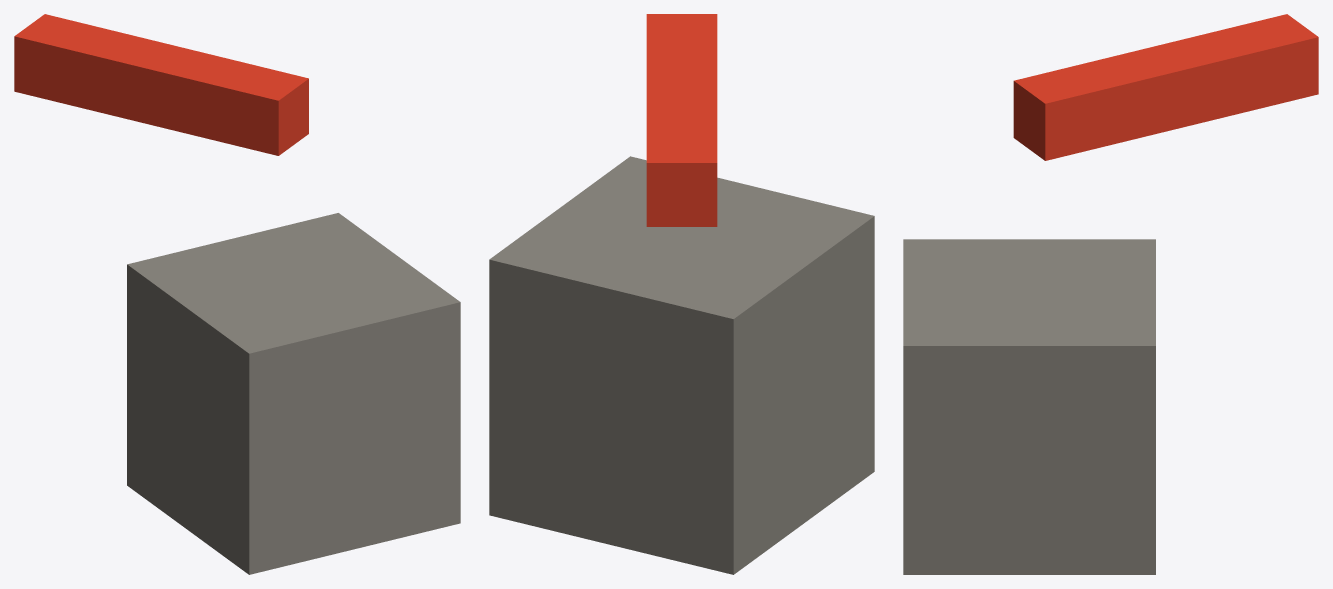
File: SM_RoundTripRig.fbx
3 views of the same model, side by side, from view 1: azimuth 30°, elevation 25°; view 2: azimuth 150°, elevation 25°; view 3: azimuth 270°, elevation 25° (orthographic). The views are drawn at different scales.
Parts seen in each view (by area): view 1: Body, Arm; view 2: Body, Arm; view 3: Body, Arm.
Part boxes in pixels (x1,y1,x2,y2): Body: (127,213,460,574); Arm: (14,14,308,155); Body: (489,156,874,574); Arm: (646,14,717,226); Body: (903,239,1155,574); Arm: (1013,14,1318,160).
Bounding box in the file's own units: 0.4933 × 0.658 × 0.75.
